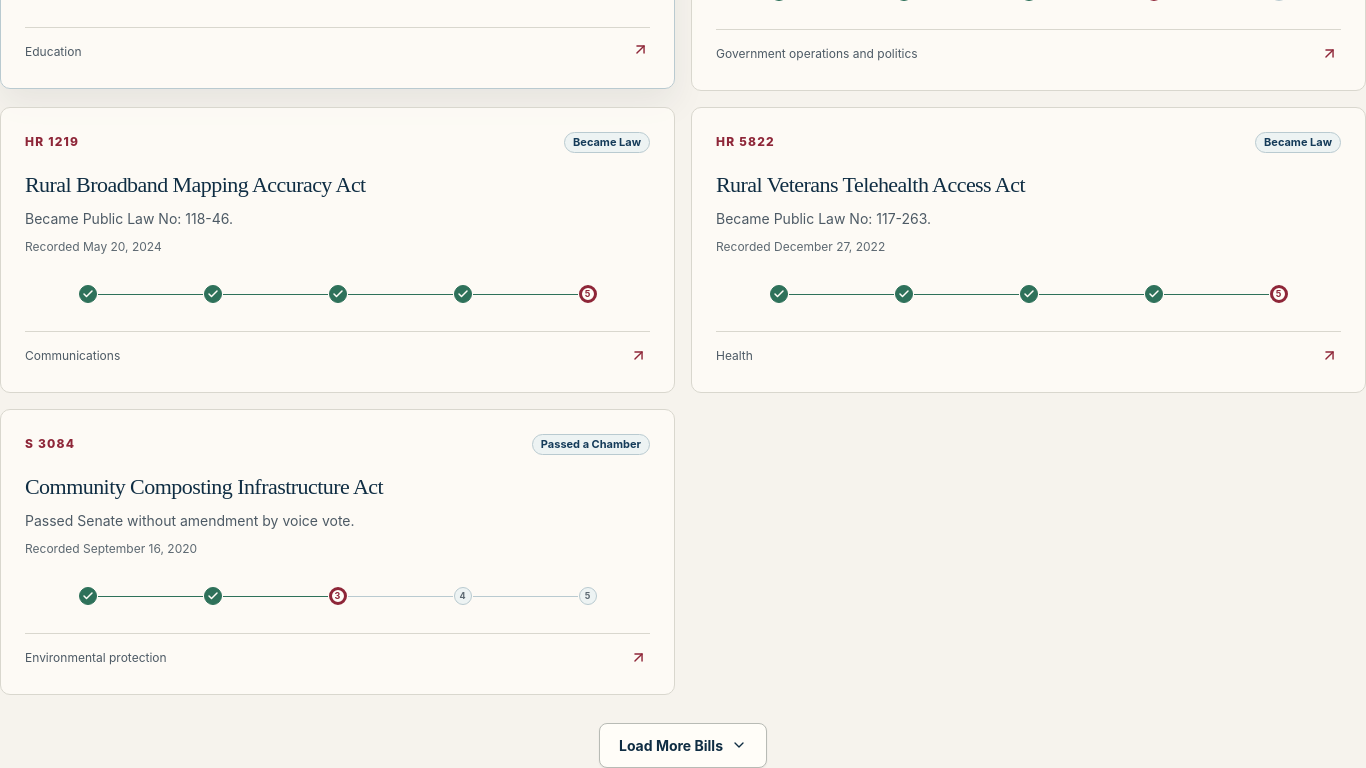
Test case: BillDirectory › stops offering more once an empty page comes back
(page scrolled)
Click the button "Load More Bills".
click(683, 745)  # box [599, 722, 767, 767]
(page scrolled)
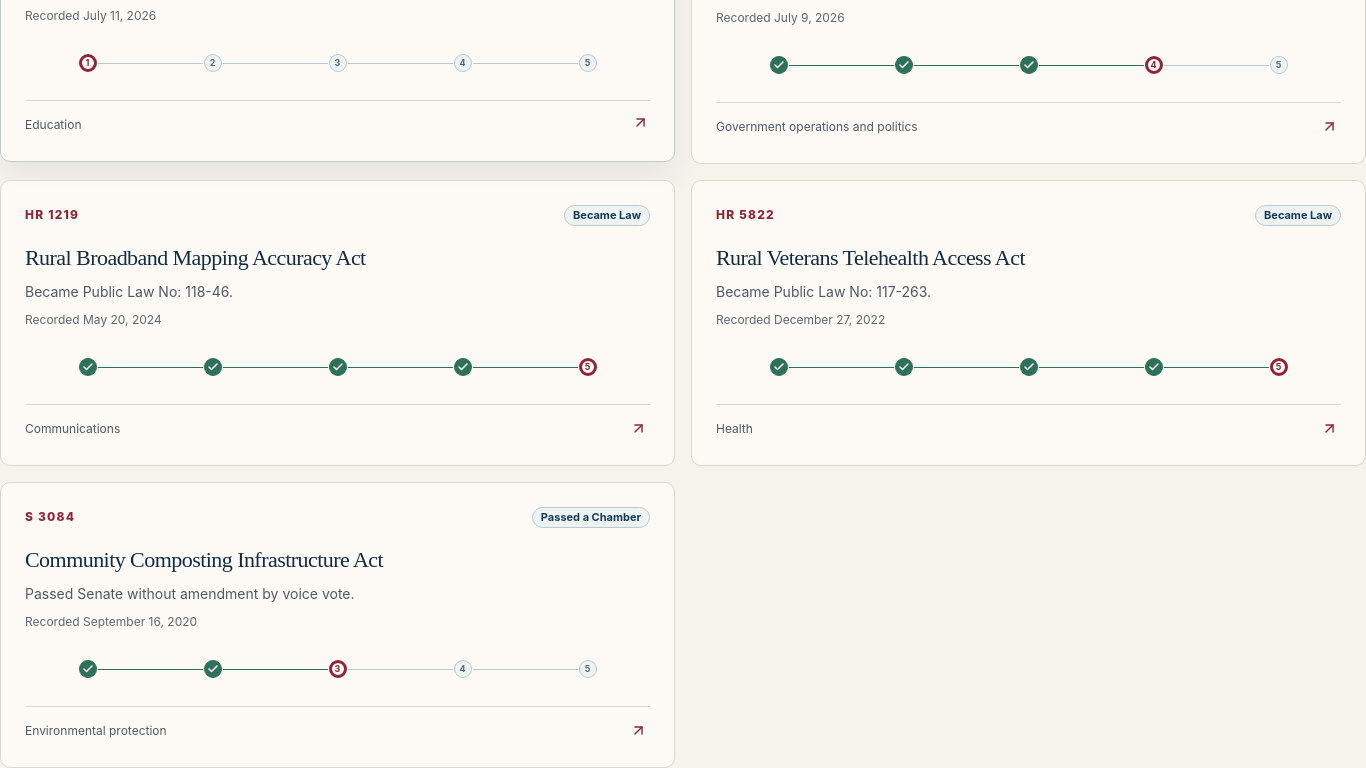
Result: the button "Load More Bills" is gone
